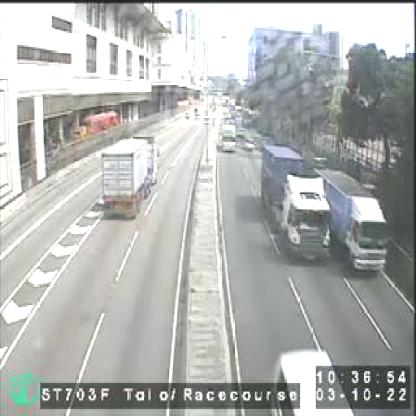Truck: (313, 165, 386, 272), (261, 144, 329, 256), (104, 132, 156, 211), (220, 123, 234, 151)
